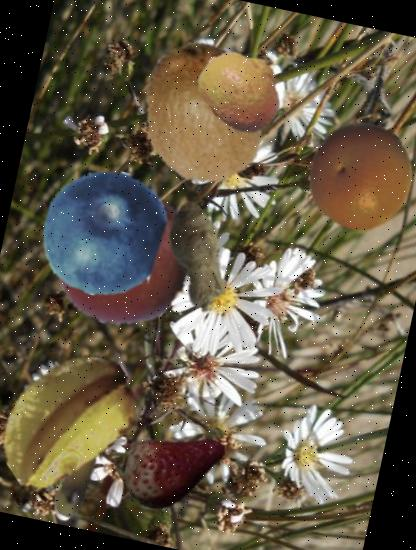Banana: (22, 413, 140, 530)
Carambula: (0, 329, 153, 506)
Ginger: (130, 190, 265, 325)
Grapefruit: (296, 112, 416, 240)
Huckleberry: (28, 157, 178, 308)
Kiwi: (115, 27, 287, 199)
Mandarine: (188, 38, 294, 144)
Pomegranate: (41, 174, 207, 340)
Strawberry: (110, 401, 236, 527)
